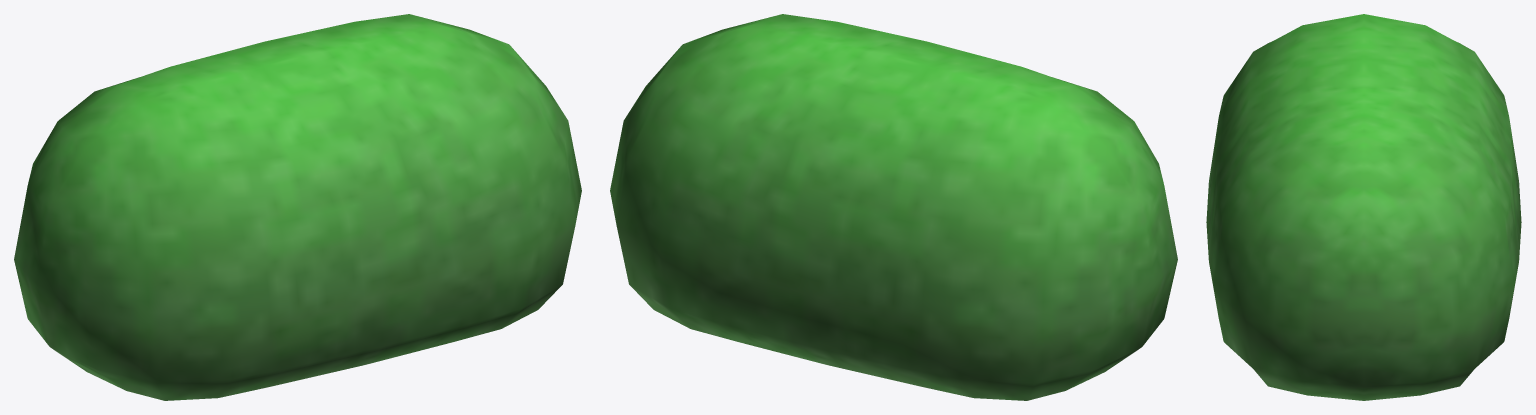
File: Bush 2.fbx
3 renders of one model, left to right at view 1: azimuth 30°, elevation 25°; view 2: azimuth 150°, elevation 25°; view 3: azimuth 270°, elevation 25°, orthographic. The views are drawn at different scales.
Parts seen in each view (by area): view 1: Bush2; view 2: Bush2; view 3: Bush2.
Part boxes in pixels (box(x1,y1,x2,y2)): Bush2: box(14, 14, 581, 400); Bush2: box(610, 14, 1177, 400); Bush2: box(1206, 14, 1521, 400).
Bounding box in the file's own units: 159 × 78.23 × 92.81.
